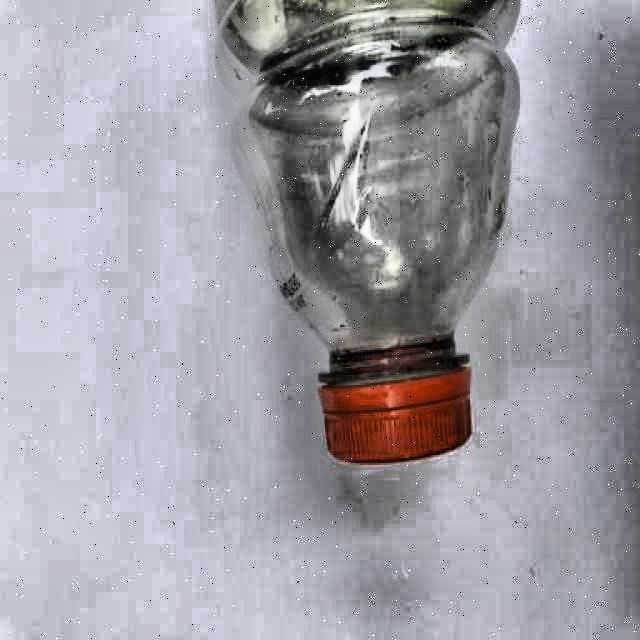plastic: (213, 0, 521, 466)
